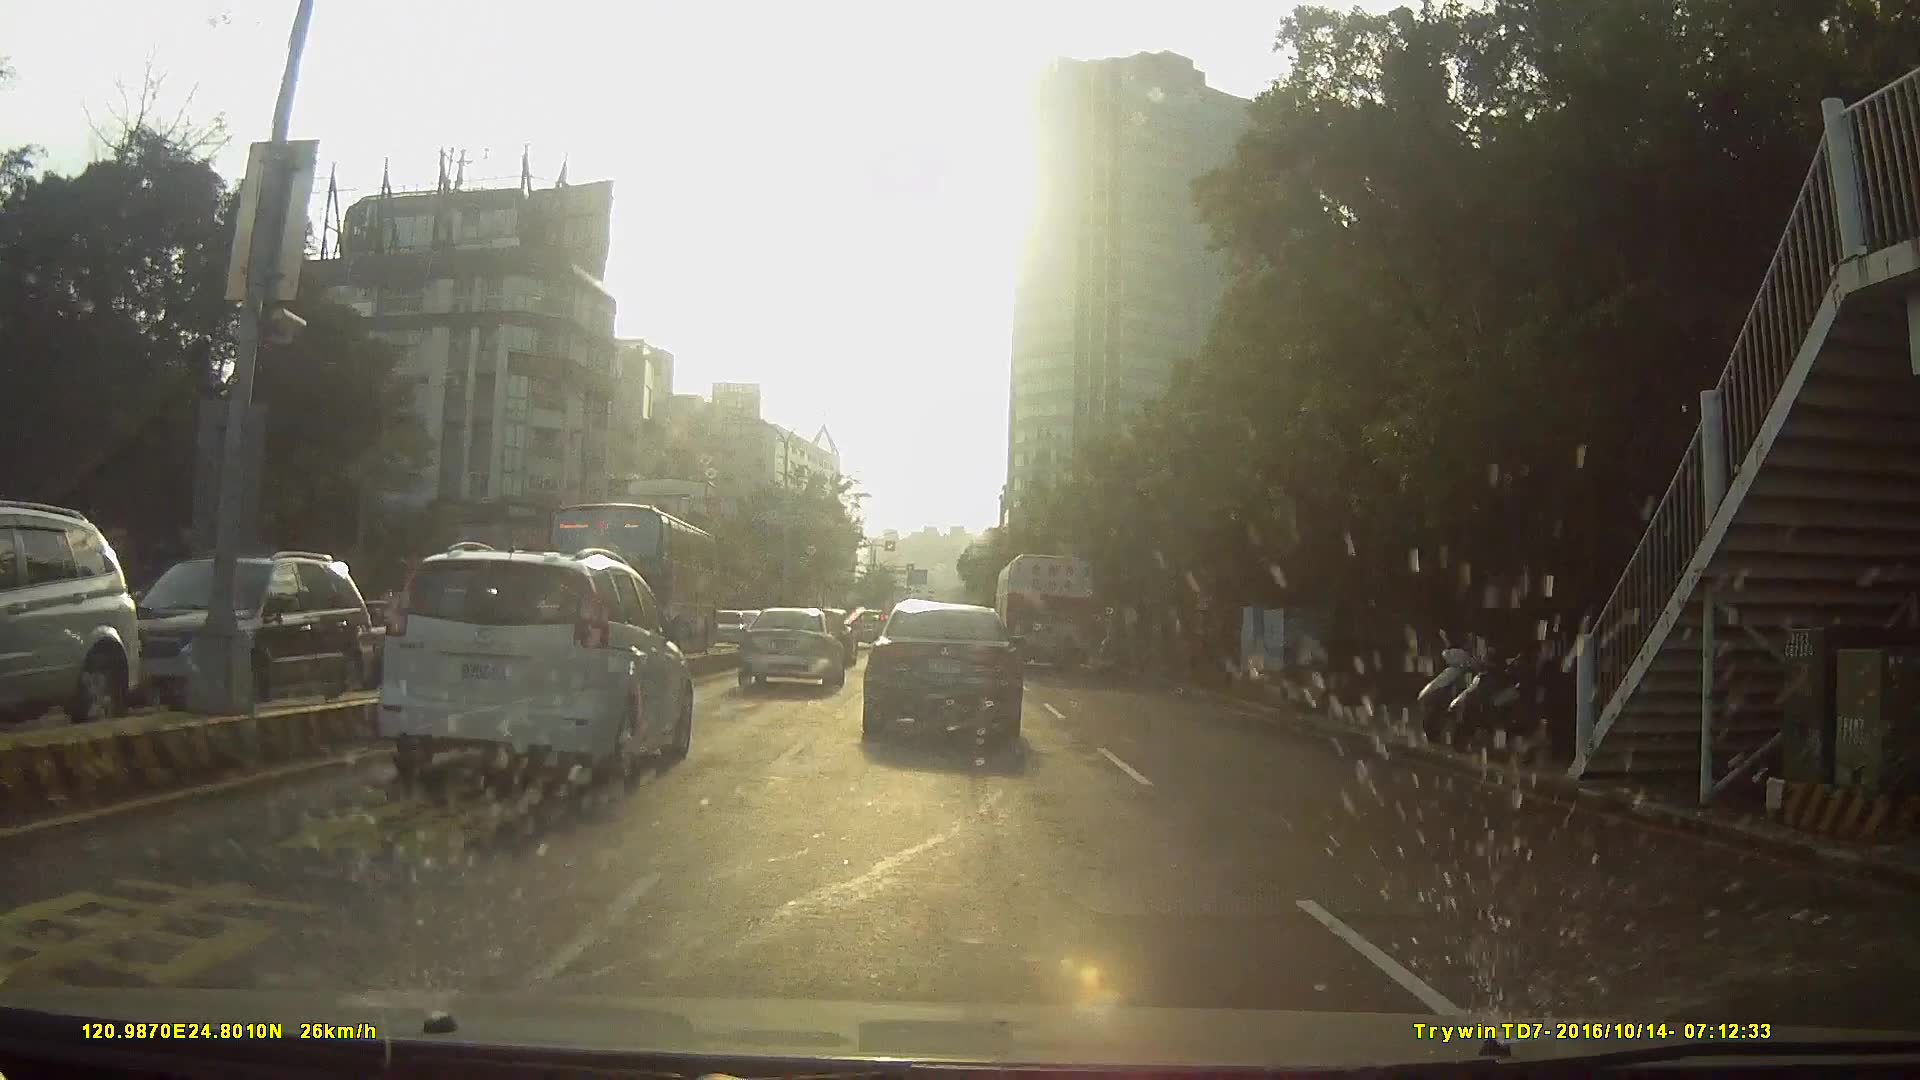vehicle: (251, 556, 684, 868), (377, 541, 694, 793), (105, 550, 382, 731), (1, 506, 164, 752), (531, 498, 711, 655), (861, 592, 1025, 760), (994, 555, 1098, 680), (733, 607, 843, 691), (866, 638, 915, 687)
